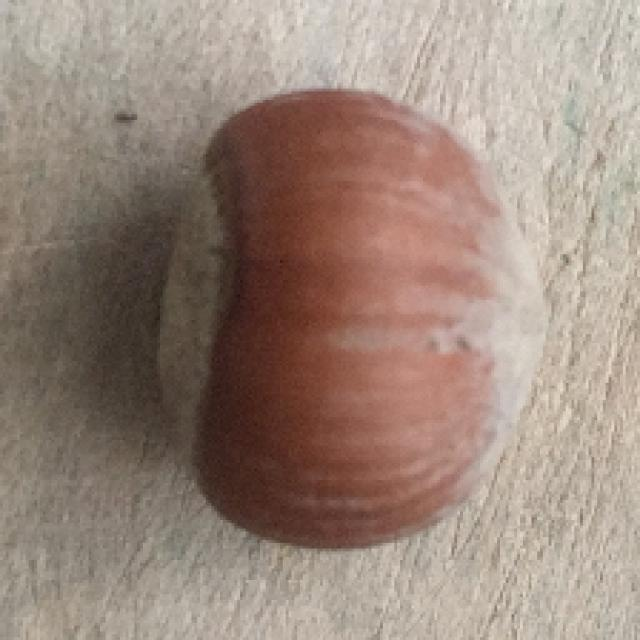qualityHazelnut: (145, 73, 530, 554)
